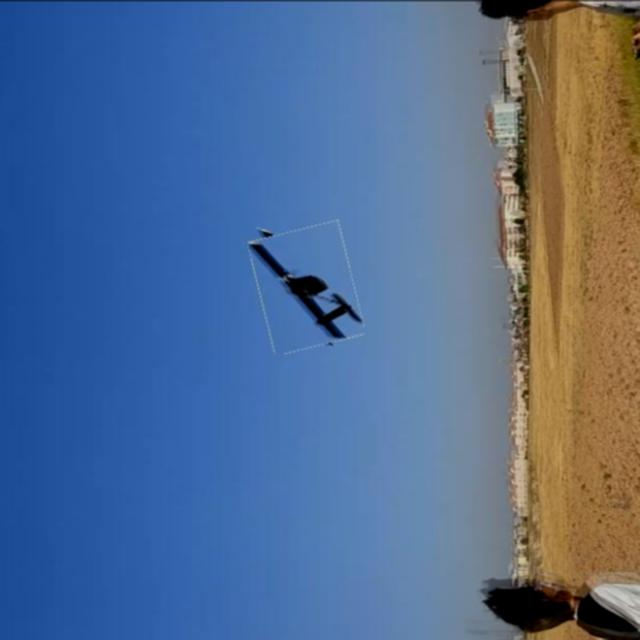plane: (244, 223, 366, 356)
